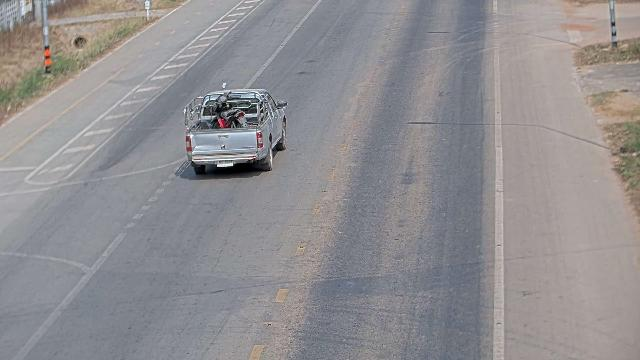pickup-truck: (182, 83, 288, 175)
